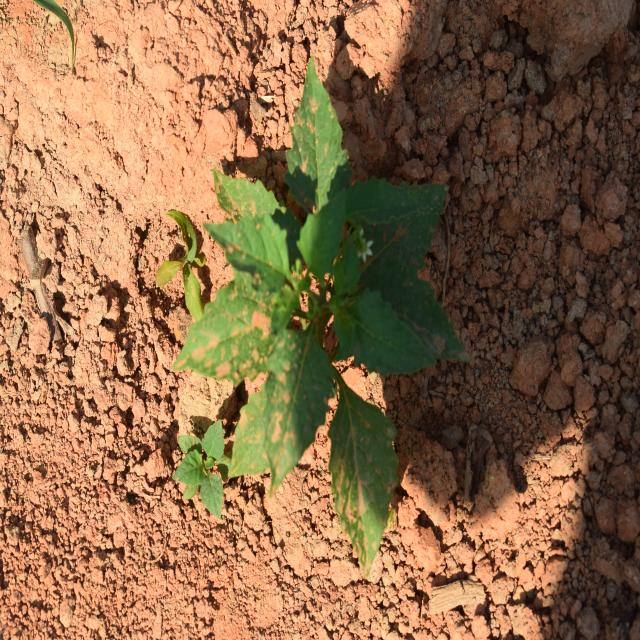Black_nightshade: (199, 96, 445, 513)
